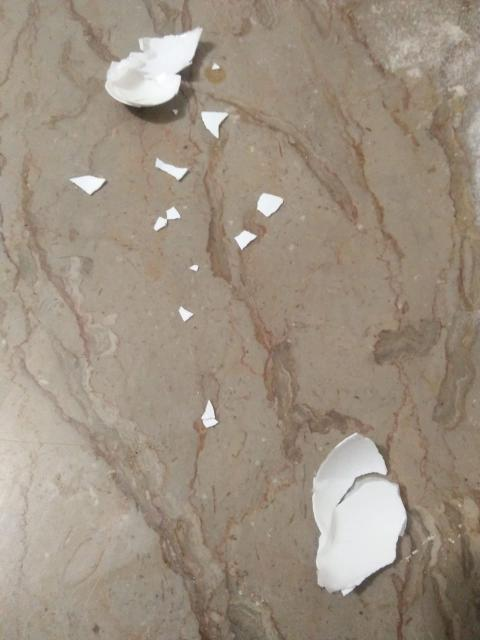Roto: (310, 432, 408, 596), (102, 25, 203, 108)
